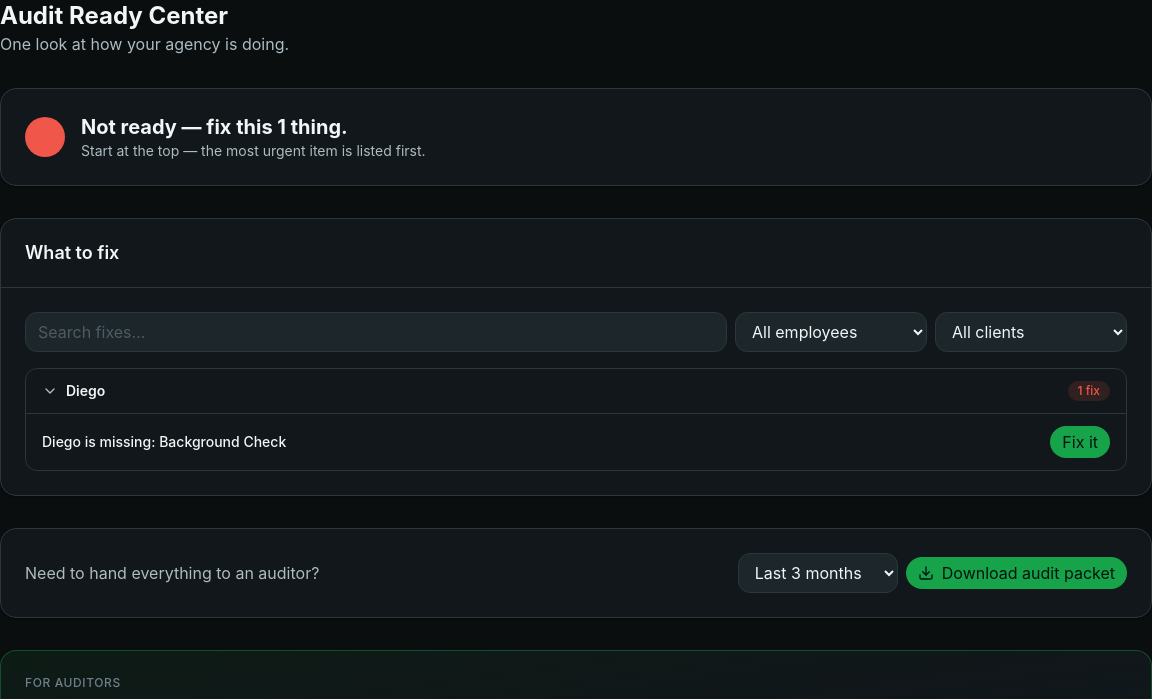
Test case: AuditReadinessPage — simple view (default) › shows upload and reminder actions for credential items
Click the button "Fix it".
click(1080, 442)  # box [1050,426,1110,458]
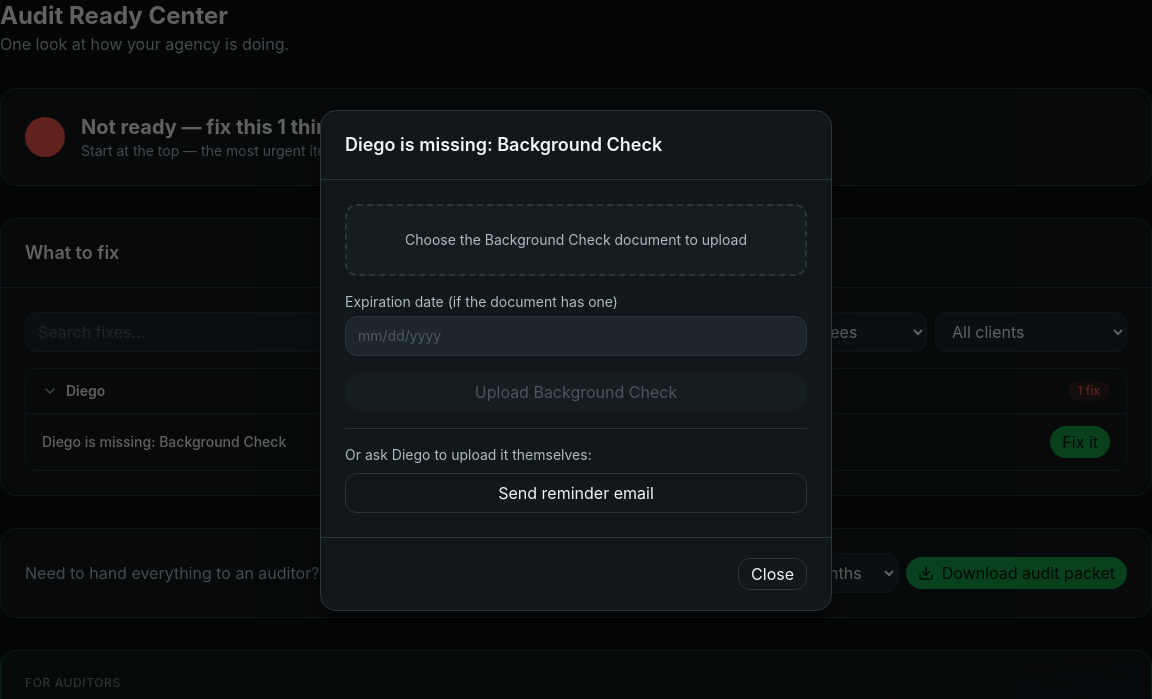
Expected: the dialog shows "Diego is missing: Background Check", [345,134,662,154]
Expected: the button "Upload Background Check" is disabled, [345,372,807,412]
Expected: the button "Send reminder email" is shown, [345,472,807,512]
